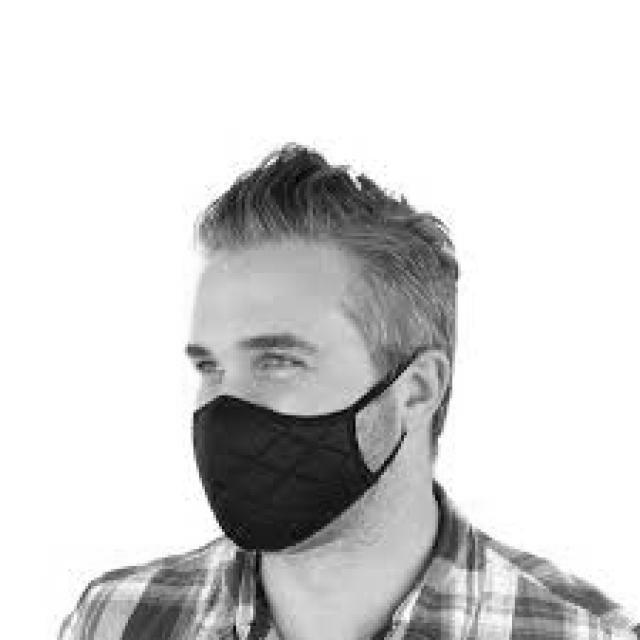fake: (161, 368, 442, 570)
real: (184, 246, 379, 569)
